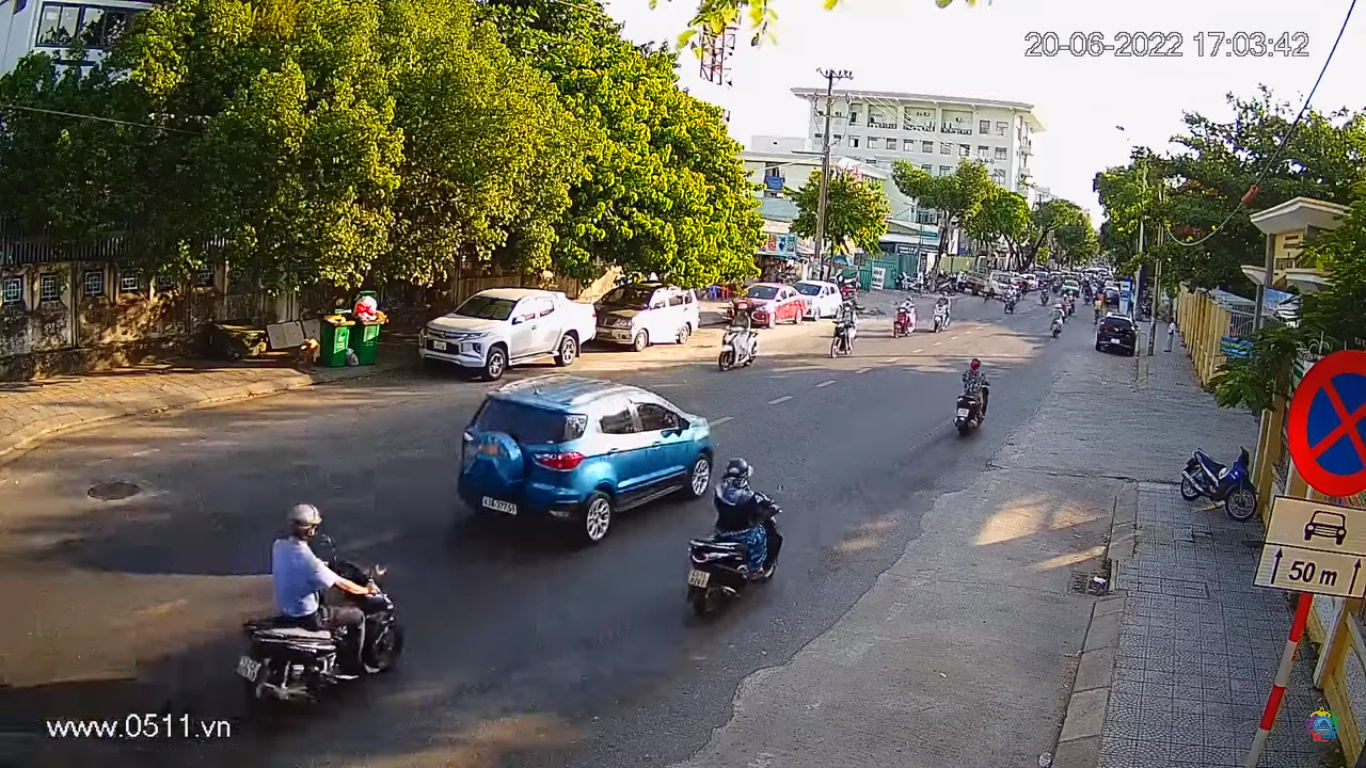car: (454, 382, 717, 540)
